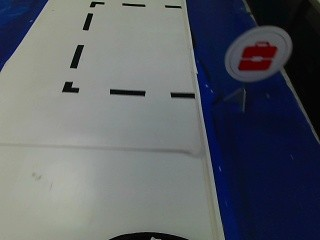company: (223, 31, 284, 83)
